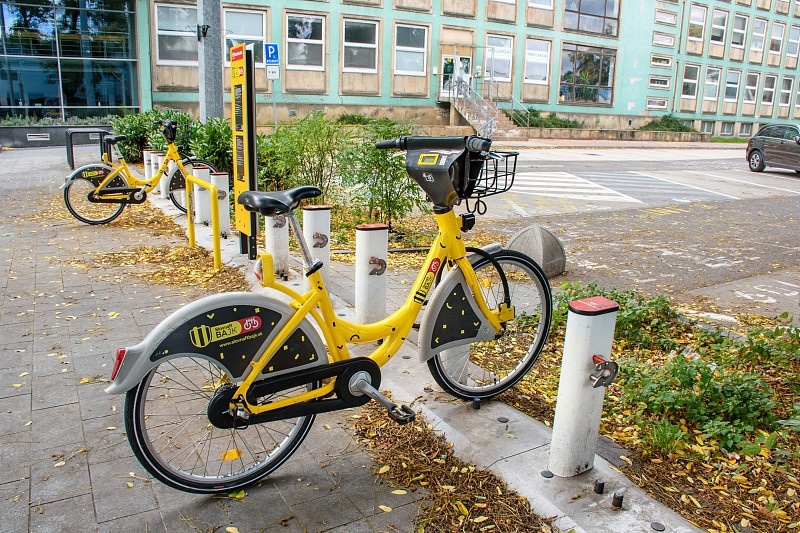non-vehicle: (108, 125, 557, 498), (57, 118, 207, 228)
